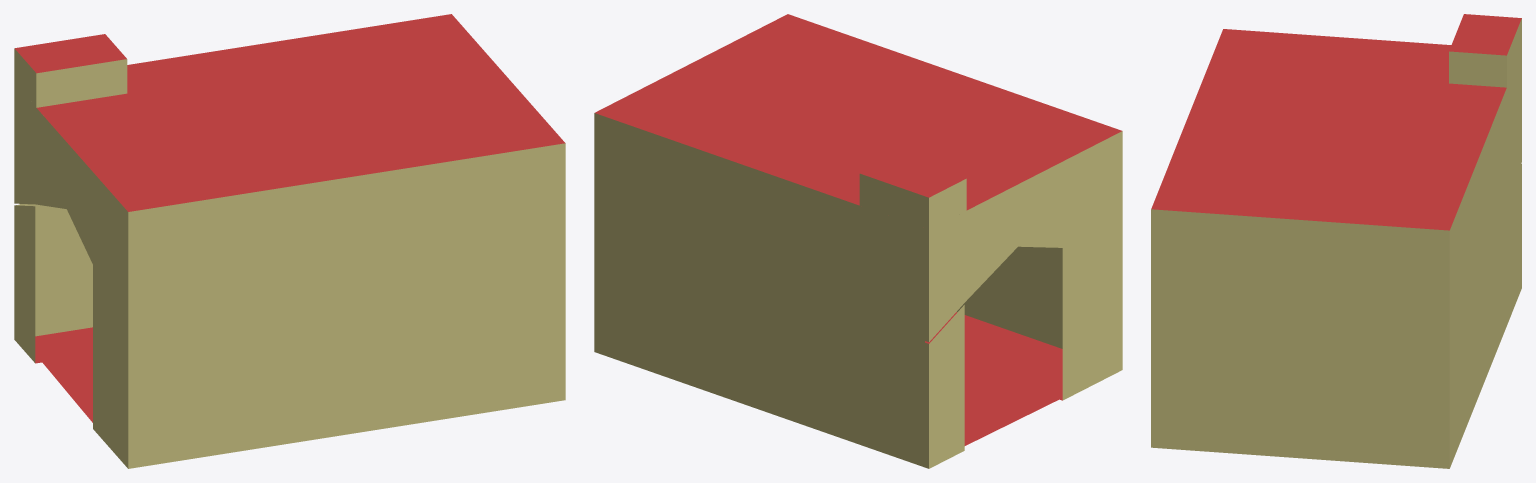
The picture shows the model from 3 angles, left to right: view 1: azimuth 30°, elevation 25°; view 2: azimuth 150°, elevation 25°; view 3: azimuth 270°, elevation 25°; orthographic projection. The views are drawn at different scales.
Visible parts, largest first — view 1: group_6, group_3, group_5, group_7, group_4; view 2: group_6, group_3, group_7, group_5, group_4; view 3: group_6, group_3, group_5, group_4.
Part boxes in pixels (box(x1,y1,x2,y2)): group_6: box(14, 83, 565, 468); group_3: box(37, 14, 565, 211); group_5: box(14, 48, 127, 107); group_7: box(35, 327, 92, 422); group_4: box(15, 34, 126, 73); group_6: box(594, 113, 1122, 468); group_3: box(595, 14, 1121, 210); group_7: box(925, 312, 1062, 445); group_5: box(859, 173, 966, 229); group_4: box(860, 154, 965, 197); group_6: box(1151, 50, 1521, 468); group_3: box(1151, 29, 1506, 230); group_5: box(1449, 18, 1521, 87); group_4: box(1449, 14, 1521, 55).
Bounding box in the file's own units: 26.38 × 20.49 × 16.49.
